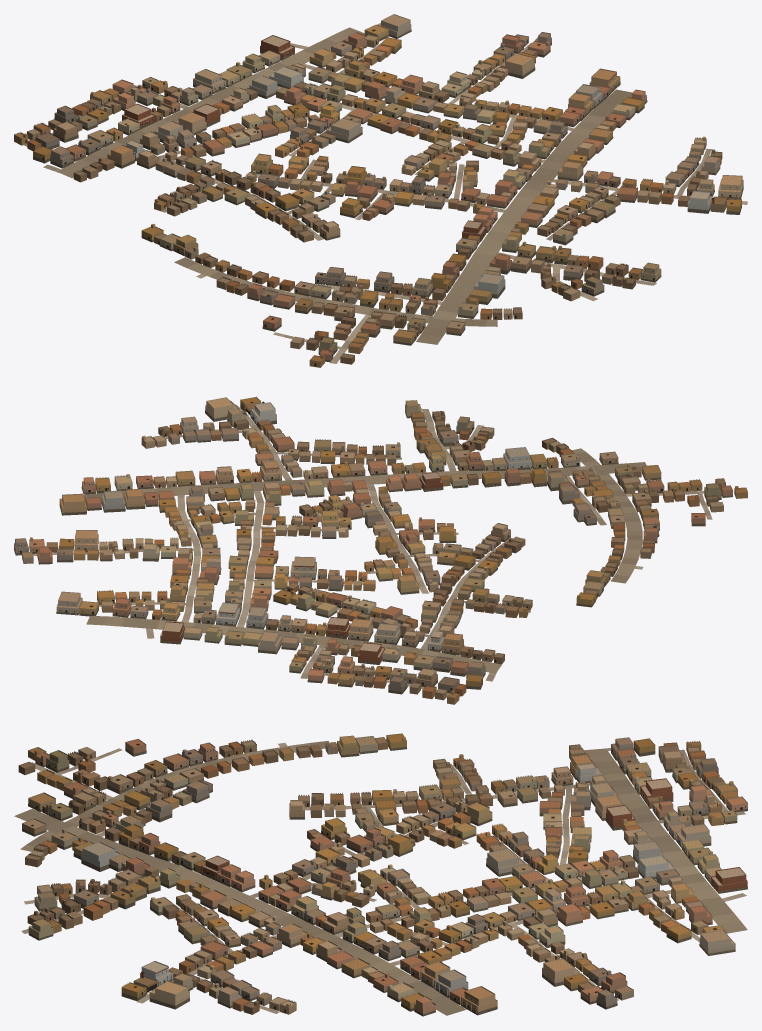
The model's file is uruk_quarter_09.glb.
3 views of the same model, one above another, from view 1: azimuth 30°, elevation 25°; view 2: azimuth 150°, elevation 25°; view 3: azimuth 270°, elevation 25° (orthographic). The views are drawn at different scales.
Parts seen in each view (by area): view 1: uruk_quarter_09; view 2: uruk_quarter_09; view 3: uruk_quarter_09.
Part boxes in pixels (x1,y1,x2,y2): uruk_quarter_09: (14,14,747,367); uruk_quarter_09: (14,396,747,704); uruk_quarter_09: (14,733,747,1016).
Size of the model in its own units: 372 by 20.49 by 412.
14 materials, 5 textured.
